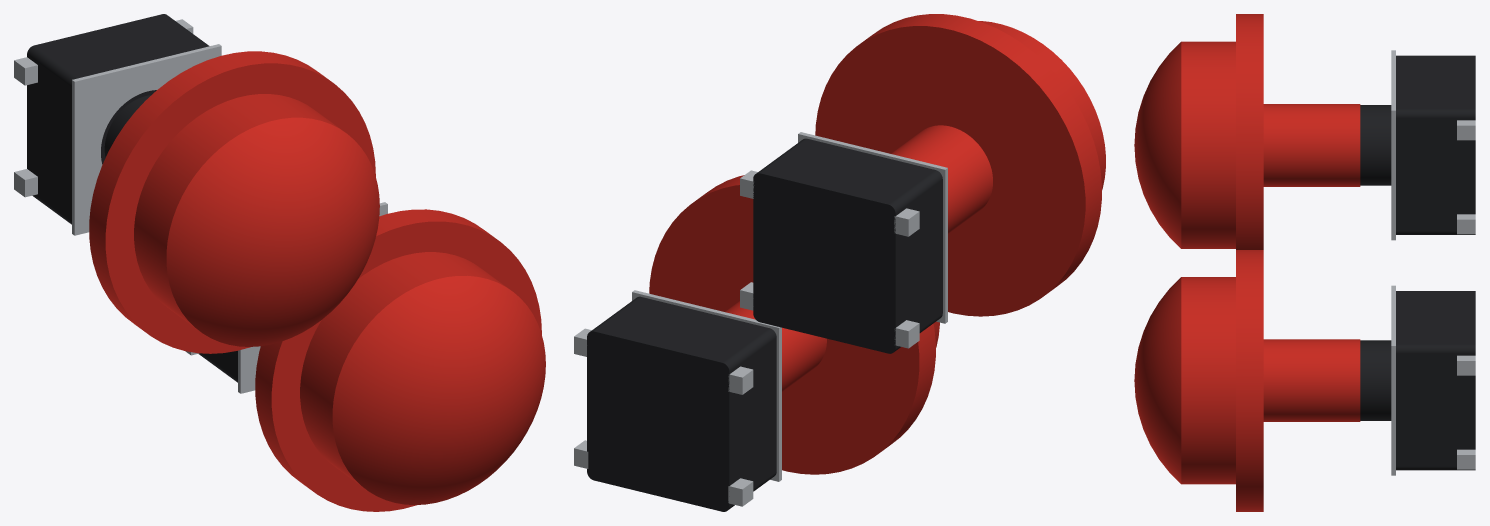
File: buttons.glb
3 renders of one model, left to right at view 1: azimuth 30°, elevation 25°; view 2: azimuth 150°, elevation 25°; view 3: azimuth 270°, elevation 25°, orthographic. The views are drawn at different scales.
Visible parts, largest first — view 1: buttons; view 2: buttons; view 3: buttons.
Part boxes in pixels (x1,y1,x2,y2): buttons: [14, 14, 545, 511]; buttons: [574, 14, 1105, 511]; buttons: [1134, 14, 1475, 511].
Bounding box in the file's own units: 18.39 × 19.4 × 14.8.
